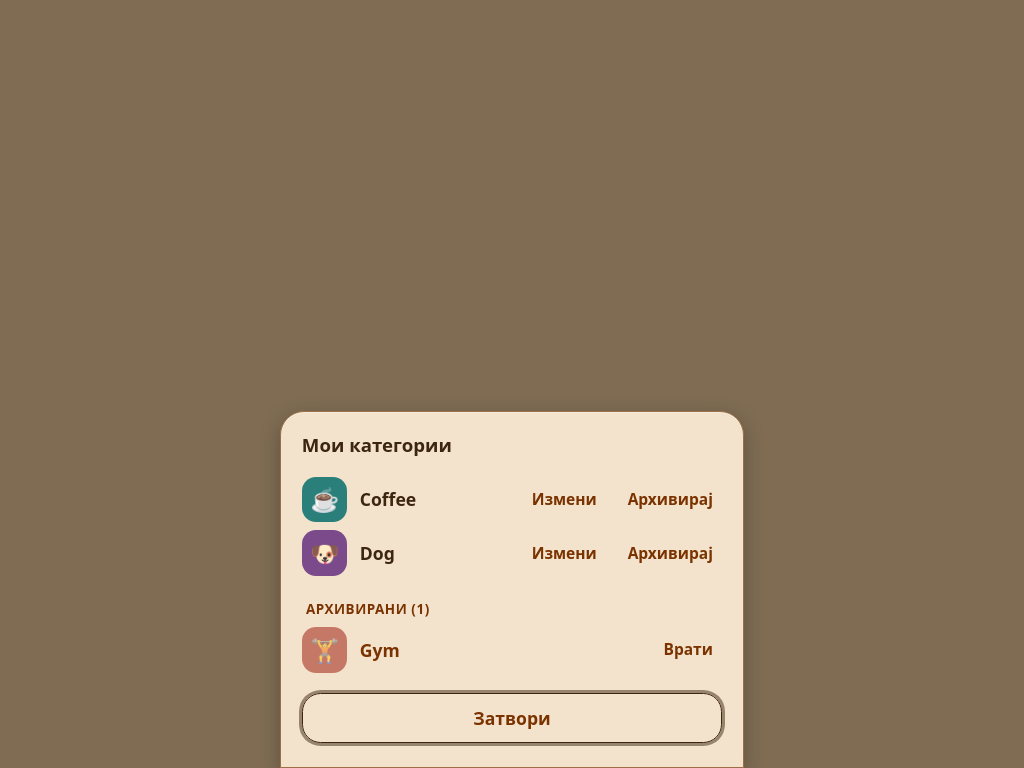
it: MyCategoriesSheet › editing › opens the same sheet filled in with the name, the emoji and the colour (mk)
Click the button "Измени" next to "Coffee". click: click(564, 499)
box: x1=522 y1=477 x2=606 y2=522
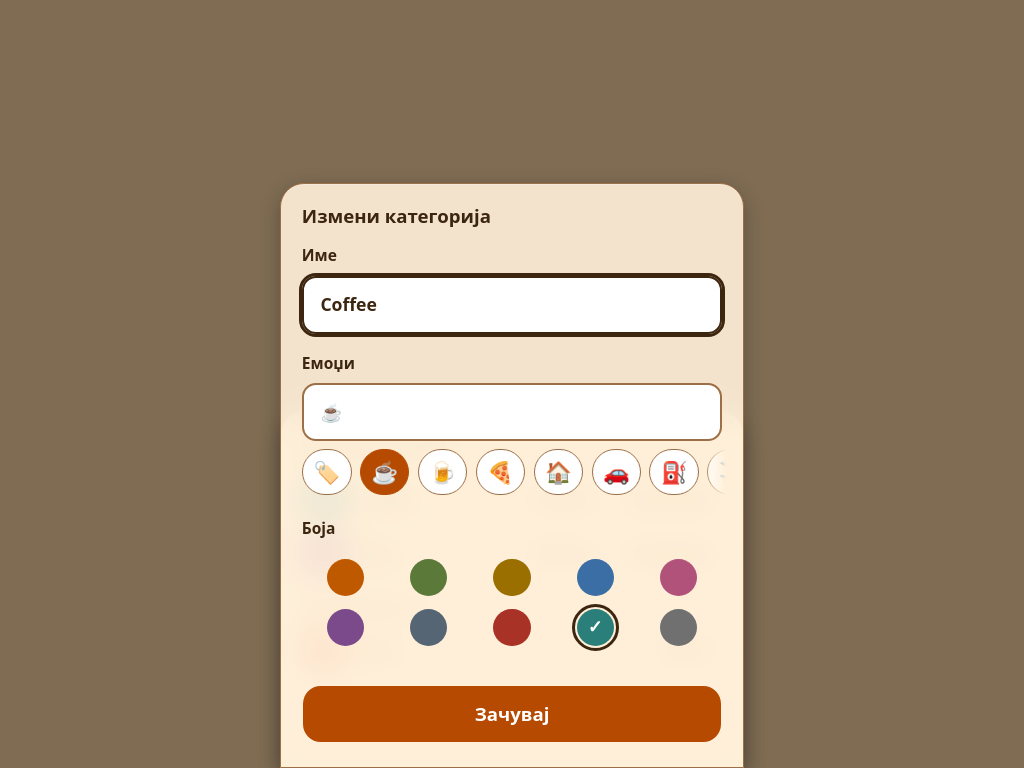
Check: the field labelled "Име" holds "Coffee", box x1=302 y1=276 x2=722 y2=334
